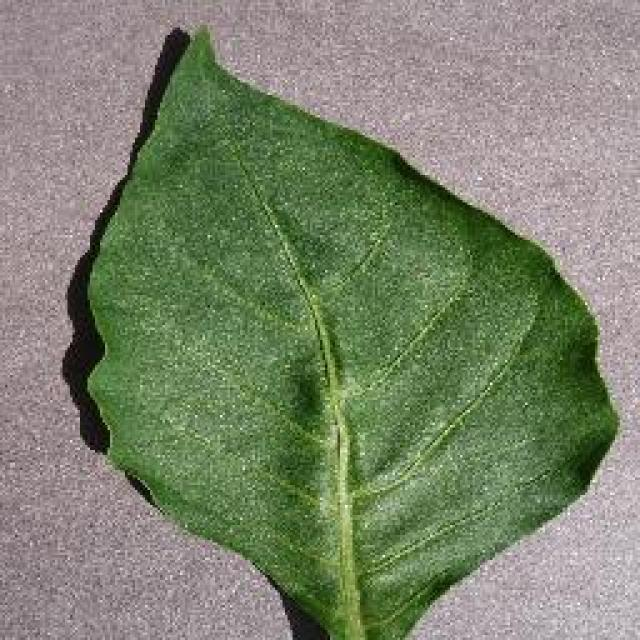Chilli_Healthy: (80, 20, 620, 638)
